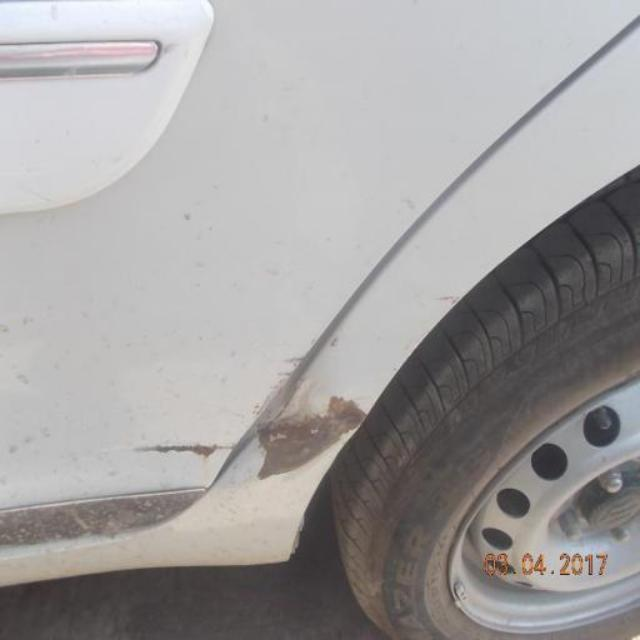crack: (252, 354, 367, 484), (133, 429, 237, 463)
